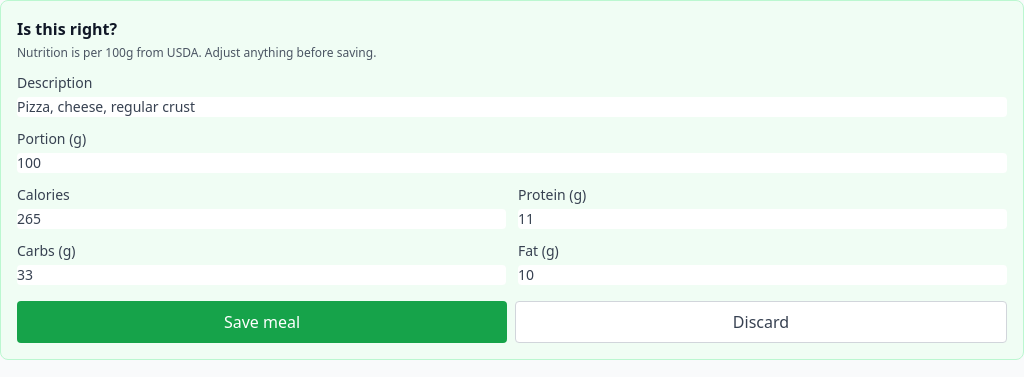
Test case: MealReview › updates the basis note as the portion is edited
Step 1. Replace the text in the number field labelled "Portion (g)" with "180" → (512, 163), box [17,153,1007,173]
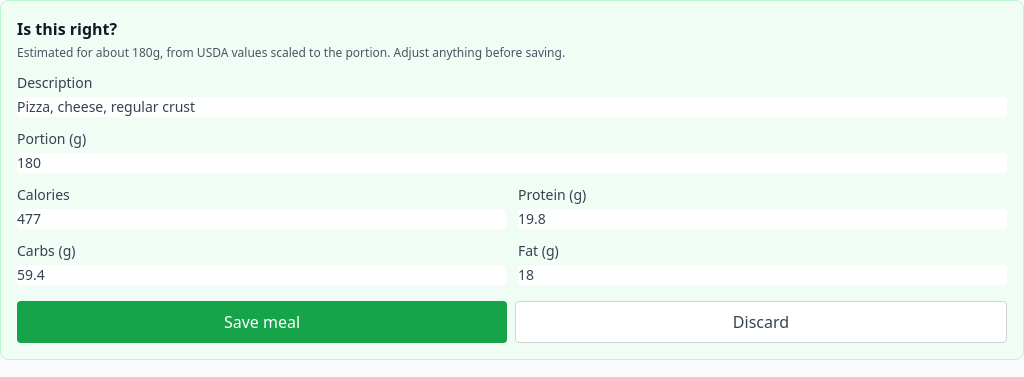
Now the text with test id "basis-note" shows "Estimated for about 180g, from USDA values scaled to the portion", box [17,44,565,61]
